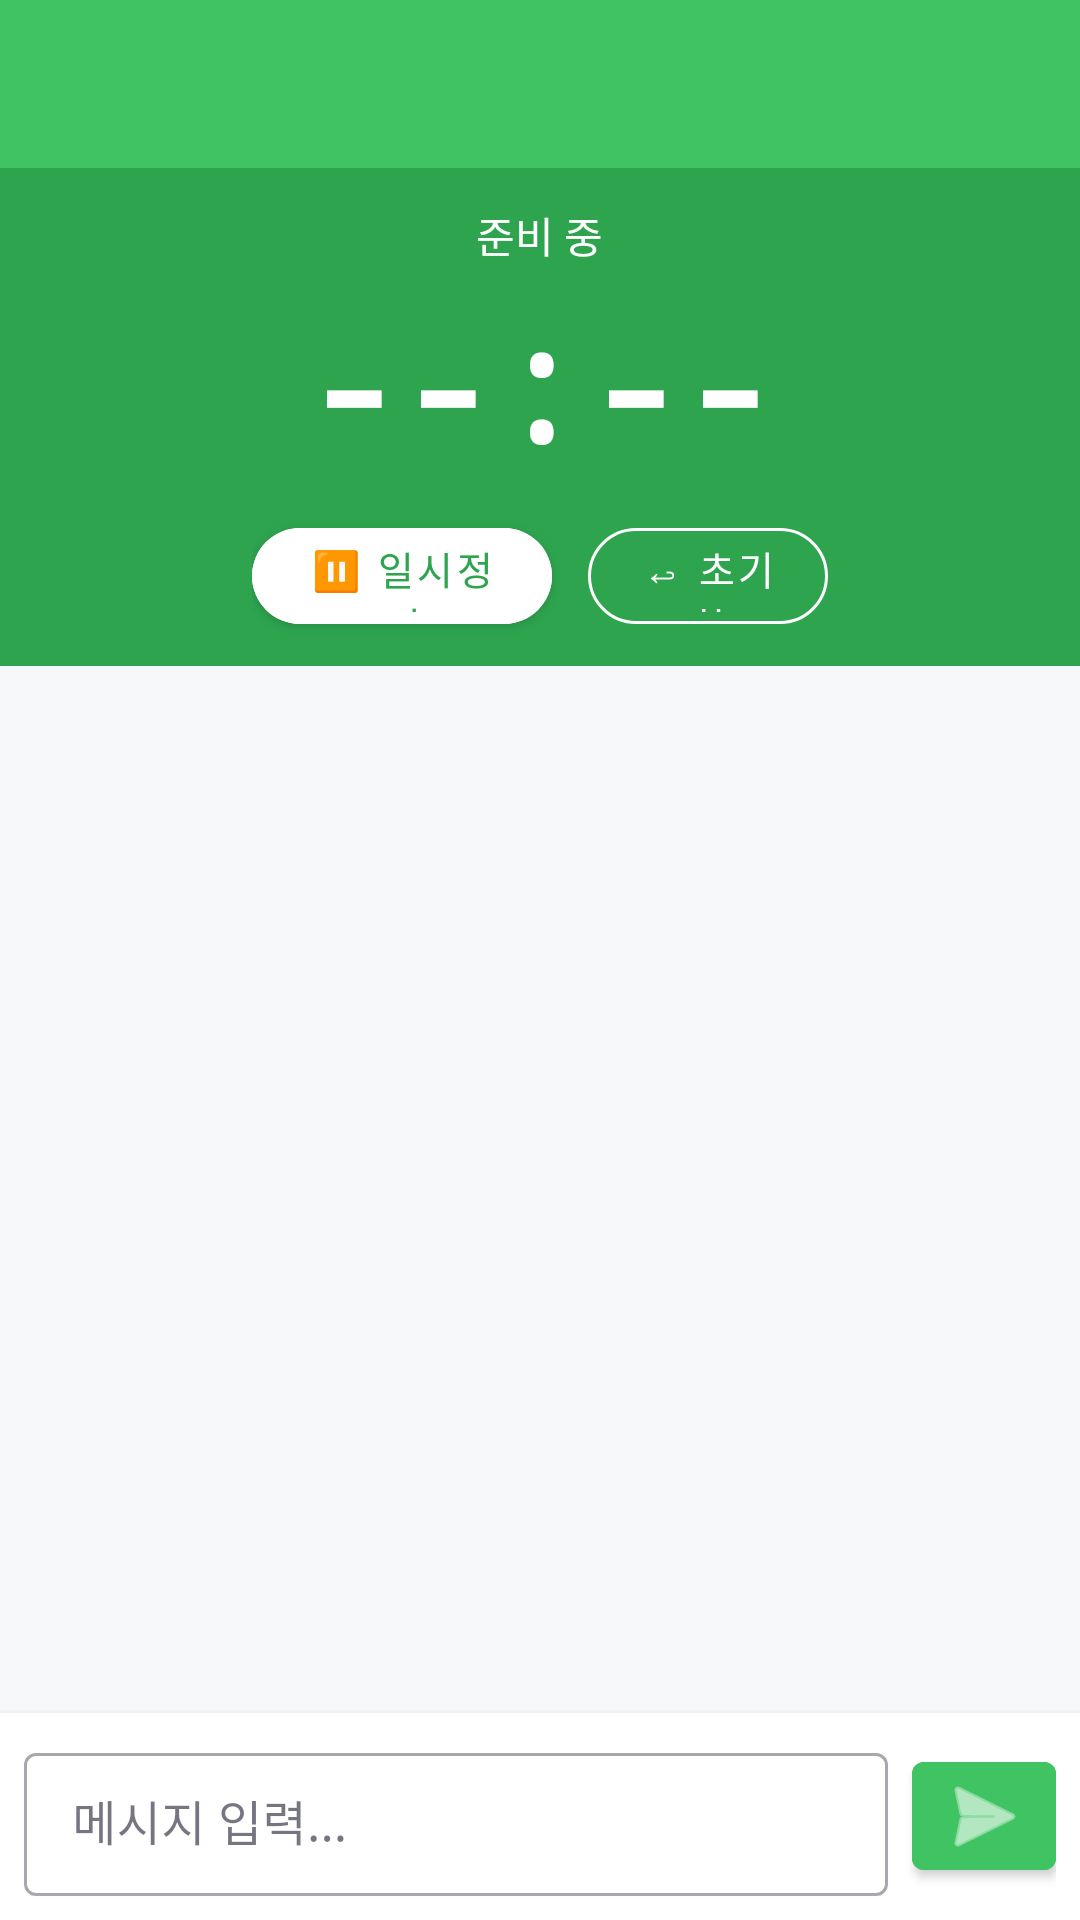

Locate icon controls on the screen. Image size 1080x1920, boxes as Rect(x1, y1, x2, y2).
전송: Rect(912, 1762, 1056, 1876)
